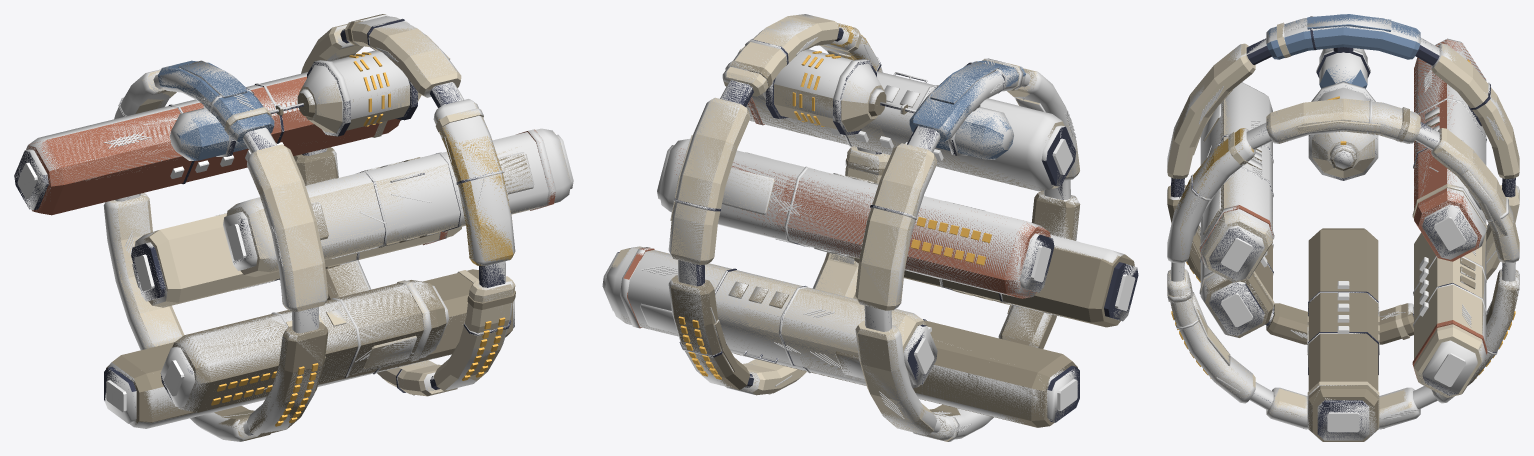
Rendered from gate4-armory.fbx.
3 renders of one model, left to right at view 1: azimuth 30°, elevation 25°; view 2: azimuth 150°, elevation 25°; view 3: azimuth 270°, elevation 25°, orthographic. The views are drawn at different scales.
Parts seen in each view (by area): view 1: Magazine 4 / contour, Ring aft / contour, Magazine 3 / brick, Magazine 5 / canvas, Magazine 5 / contour, Ring aft / bone, Ring fore / contour, Ring fore / bone, Magazine 2 / bone, Magazine 4 / bone, Magazine 3 / contour, Magazine 1 / canvas (+27 smaller); view 2: Magazine 3 / contour, Magazine 2 / contour, Ring fore / bone, Ring aft / contour, Ring aft / bone, Magazine 3 / brick, Ring fore / contour, Magazine 1 / canvas, Magazine 4 / contour, Magazine 2 / bone, Magazine 5 / canvas, Crew pod / contour (+25 smaller); view 3: Ring fore / contour, Magazine 1 / canvas, Ring fore / bone, Ring aft / bone, Magazine 4 / contour, Magazine 2 / bone, Magazine 3 / contour, Magazine 3 / brick, Ring aft / blue, Ring aft / canvas, Crew pod / contour, Ring fore / contour fine (+34 smaller).
Part boxes in pixels (x1=…): Magazine 4 / contour: x1=223, y1=128, x2=573, y2=270; Ring aft / contour: x1=103, y1=65, x2=327, y2=441; Magazine 3 / brick: x1=26, y1=76, x2=400, y2=215; Magazine 5 / canvas: x1=172, y1=280, x2=446, y2=412; Magazine 5 / contour: x1=160, y1=280, x2=448, y2=411; Ring aft / bone: x1=106, y1=70, x2=328, y2=348; Ring fore / contour: x1=296, y1=16, x2=515, y2=391; Ring fore / bone: x1=301, y1=19, x2=515, y2=396; Magazine 2 / bone: x1=135, y1=213, x2=461, y2=307; Magazine 4 / bone: x1=226, y1=132, x2=569, y2=276; Magazine 3 / contour: x1=15, y1=72, x2=307, y2=211; Magazine 1 / canvas: x1=106, y1=269, x2=512, y2=424; Magazine 3 / contour: x1=657, y1=139, x2=1053, y2=298; Magazine 2 / contour: x1=602, y1=246, x2=937, y2=388; Ring fore / bone: x1=670, y1=14, x2=890, y2=395; Ring aft / contour: x1=855, y1=66, x2=1079, y2=440; Ring aft / bone: x1=855, y1=68, x2=1079, y2=434; Magazine 3 / brick: x1=675, y1=148, x2=1050, y2=298; Ring fore / contour: x1=668, y1=14, x2=887, y2=394; Magazine 1 / canvas: x1=734, y1=320, x2=1077, y2=427; Magazine 4 / contour: x1=738, y1=49, x2=1075, y2=191; Magazine 2 / bone: x1=611, y1=246, x2=925, y2=386; Magazine 5 / canvas: x1=854, y1=246, x2=1134, y2=327; Crew pod / contour: x1=763, y1=49, x2=883, y2=135; Ring fore / contour: x1=1167, y1=99, x2=1519, y2=429; Magazine 1 / canvas: x1=1308, y1=228, x2=1378, y2=441; Ring fore / bone: x1=1167, y1=98, x2=1519, y2=424; Ring aft / bone: x1=1167, y1=43, x2=1519, y2=279; Magazine 4 / contour: x1=1200, y1=82, x2=1272, y2=282; Magazine 2 / bone: x1=1414, y1=232, x2=1486, y2=397; Magazine 3 / contour: x1=1414, y1=38, x2=1486, y2=259; Magazine 3 / brick: x1=1414, y1=39, x2=1485, y2=261; Ring aft / blue: x1=1266, y1=14, x2=1420, y2=59; Ring aft / canvas: x1=1167, y1=185, x2=1413, y2=344; Crew pod / contour: x1=1308, y1=81, x2=1378, y2=180; Ring fore / contour fine: x1=1167, y1=99, x2=1508, y2=429.
Bounding box in the file's own units: 29 × 22.71 × 22.35.
